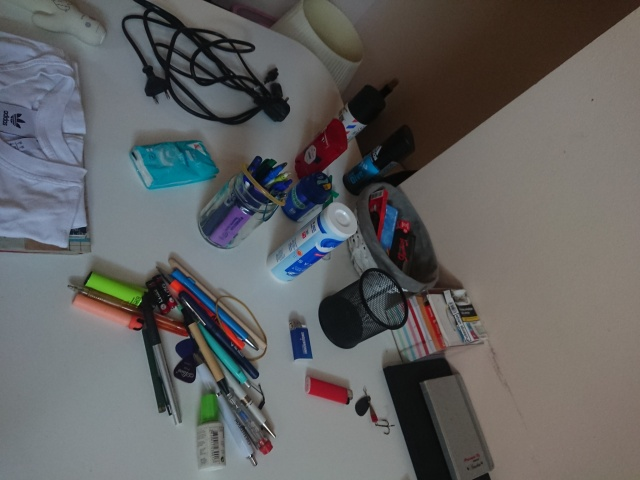Solana Pag Fine Sea Salt 250g: (263, 200, 360, 286)
